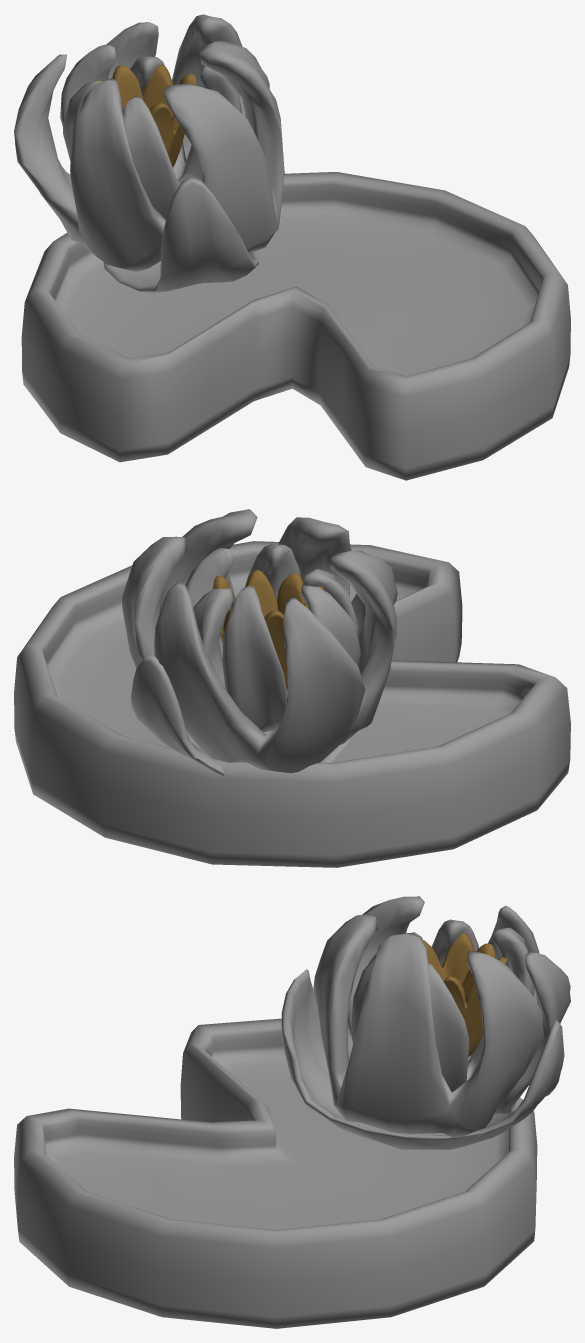
File: Flower_Lilypad_05.fbx
The picture shows the model from 3 angles, top to bottom: view 1: azimuth 30°, elevation 25°; view 2: azimuth 150°, elevation 25°; view 3: azimuth 270°, elevation 25°; orthographic projection. The views are drawn at different scales.
Parts seen in each view (by area): view 1: Flower_Lilypad_05; view 2: Flower_Lilypad_05; view 3: Flower_Lilypad_05.
Boxes of the visible parts, x1,y1,x2,y2 form: Flower_Lilypad_05: (14, 14, 570, 480); Flower_Lilypad_05: (14, 509, 570, 867); Flower_Lilypad_05: (14, 896, 570, 1328).
Size of the model in its own units: 21.17 by 12.09 by 22.12.
